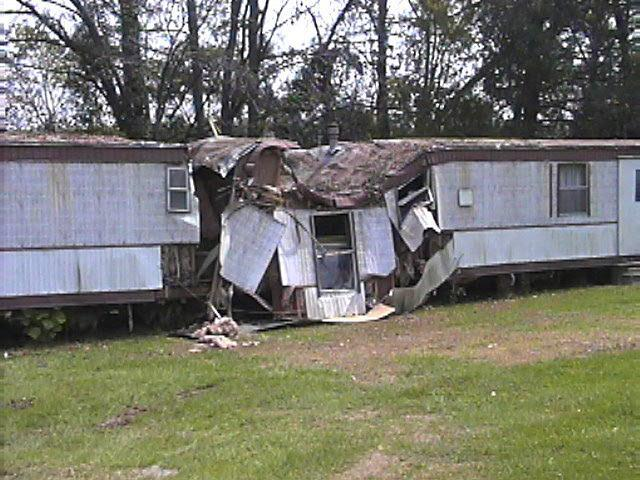major: (1, 92, 640, 362)
